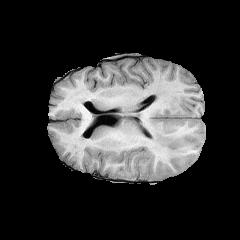glioma: (144, 78, 195, 167)
